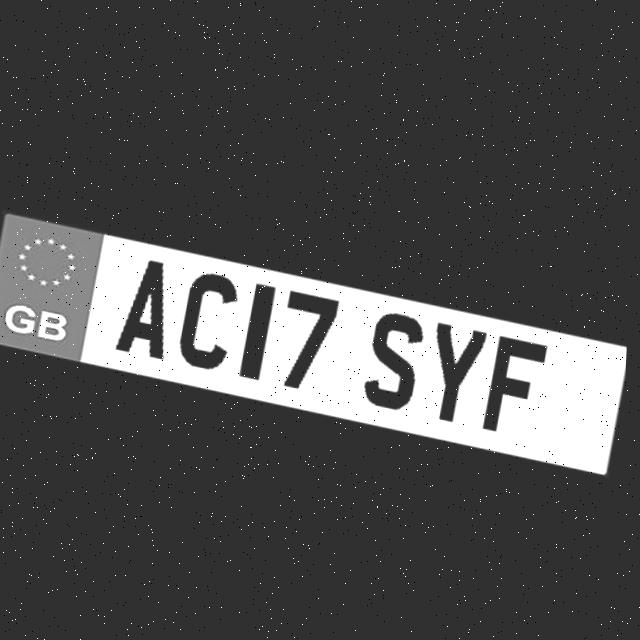license-plates: (0, 215, 627, 473)
